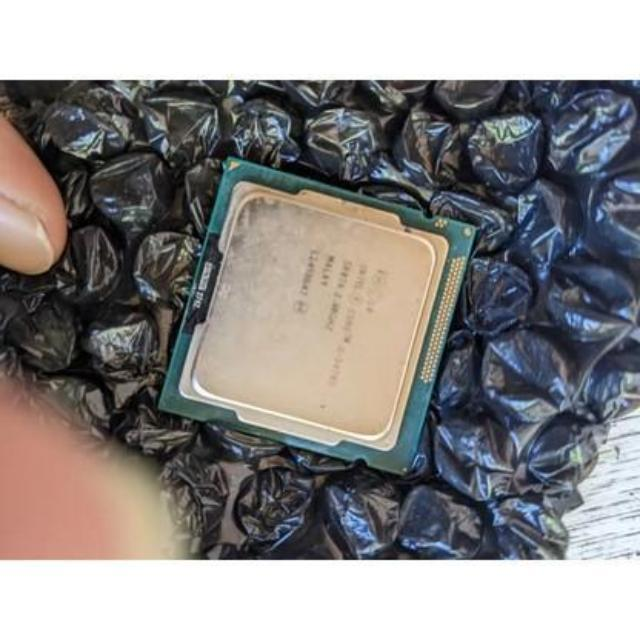CPU: (172, 166, 442, 460)
